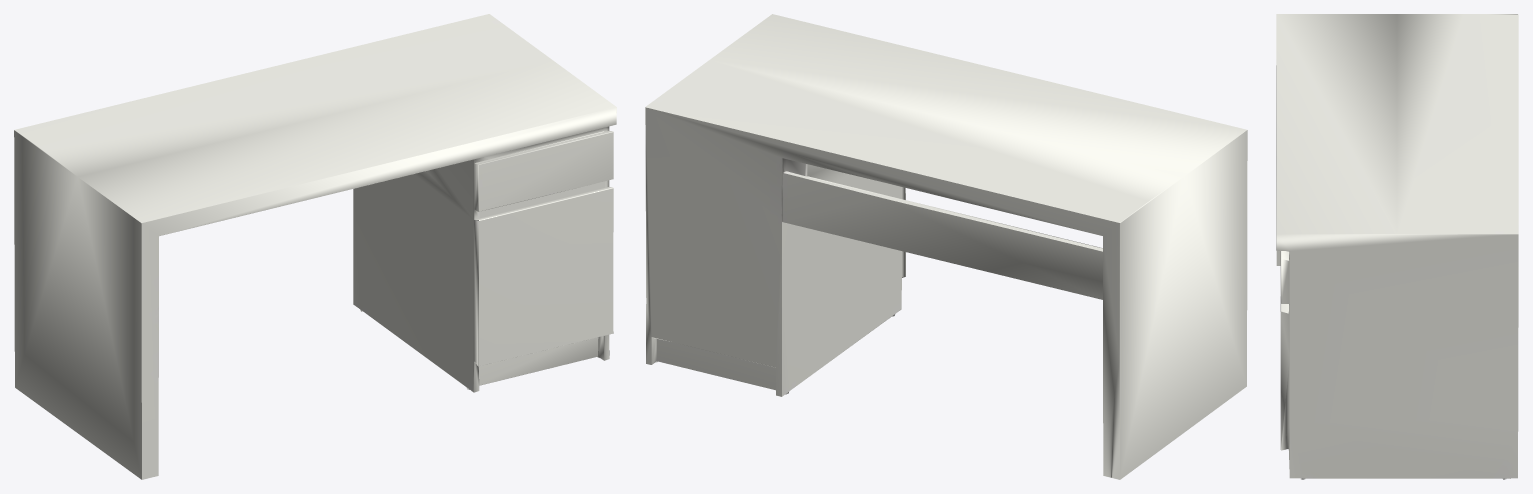
File: malm_biurko_60214159.glb
The picture shows the model from 3 angles, left to right: view 1: azimuth 30°, elevation 25°; view 2: azimuth 150°, elevation 25°; view 3: azimuth 270°, elevation 25°; orthographic projection. The views are drawn at different scales.
Visible parts, largest first — view 1: malm_biurko_60214159; view 2: malm_biurko_60214159; view 3: malm_biurko_60214159.
Boxes of the visible parts, x1=… form: malm_biurko_60214159: x1=14, y1=14, x2=616, y2=479; malm_biurko_60214159: x1=645, y1=14, x2=1247, y2=479; malm_biurko_60214159: x1=1276, y1=14, x2=1518, y2=479.
Size of the model in its own units: 1.4 by 0.7312 by 0.6514.
1 material, 1 textured.
